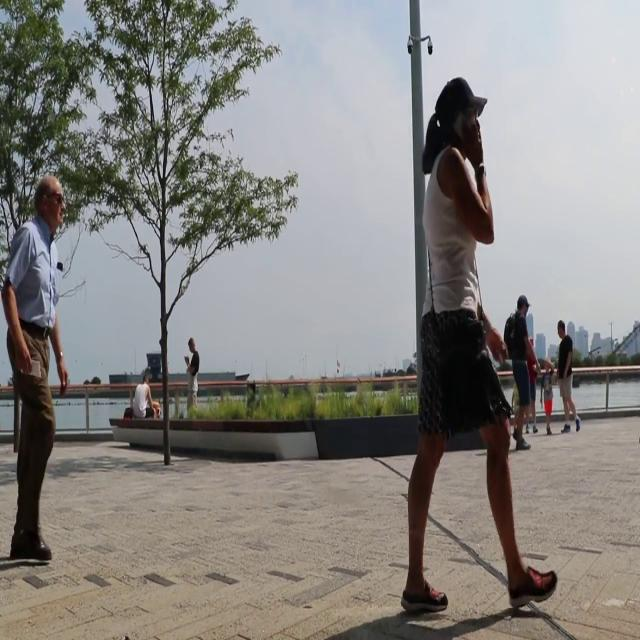normal: (402, 75, 559, 640), (1, 167, 71, 563)
